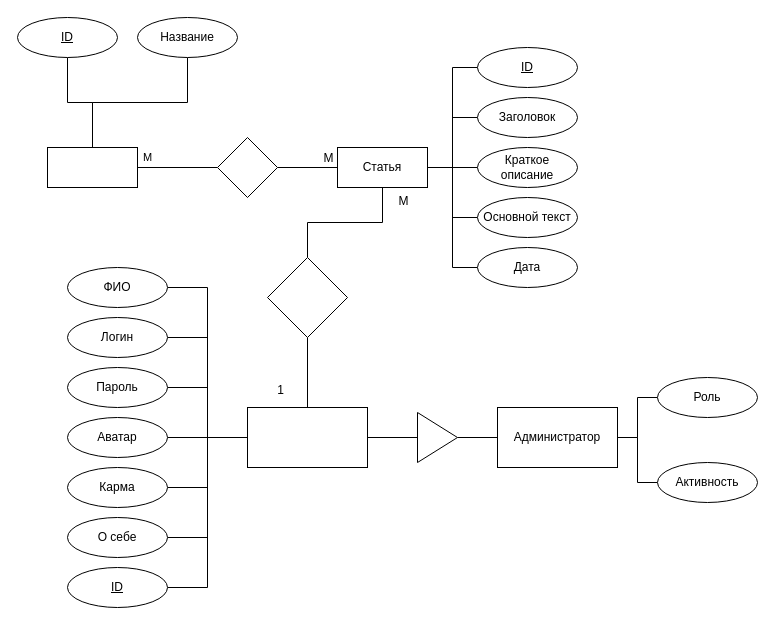
Image size: 775x625. Some labels were removed from this diagram. The centre of each missing label's shape, as x and y in pixels:
ISA: the point at 437,437
Владеет: the point at 307,297
Имеет: the point at 247,167
Пользователь: the point at 307,437
Тэг: the point at 92,167
